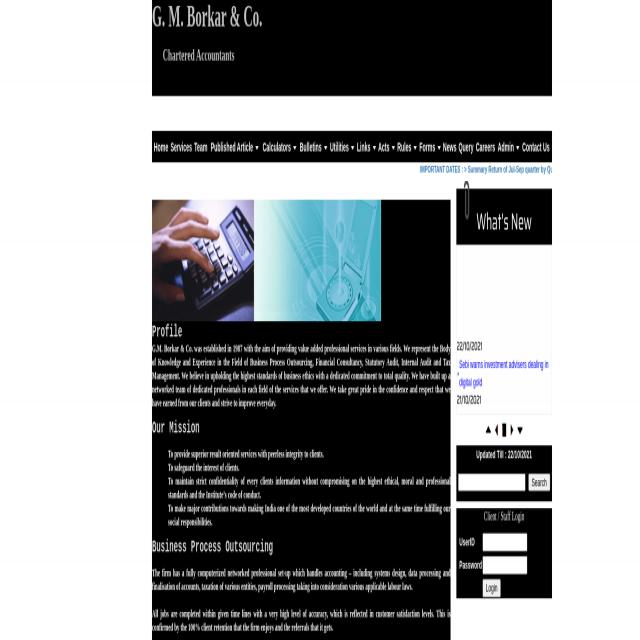button: (152, 200, 381, 322), (208, 136, 261, 158), (261, 136, 298, 158), (521, 136, 551, 158), (298, 136, 328, 158), (328, 136, 356, 158), (496, 136, 521, 158), (169, 136, 193, 158), (418, 136, 442, 158), (396, 136, 418, 158), (474, 136, 496, 158), (356, 136, 377, 158), (377, 136, 396, 158), (528, 473, 550, 492), (153, 136, 169, 158), (442, 136, 458, 158), (458, 136, 474, 158), (482, 579, 500, 597), (194, 136, 208, 158), (516, 422, 524, 439), (484, 422, 492, 439), (508, 422, 515, 439), (493, 422, 500, 439), (501, 422, 507, 439)
field: (458, 473, 526, 492), (482, 533, 528, 552), (482, 556, 528, 575)
